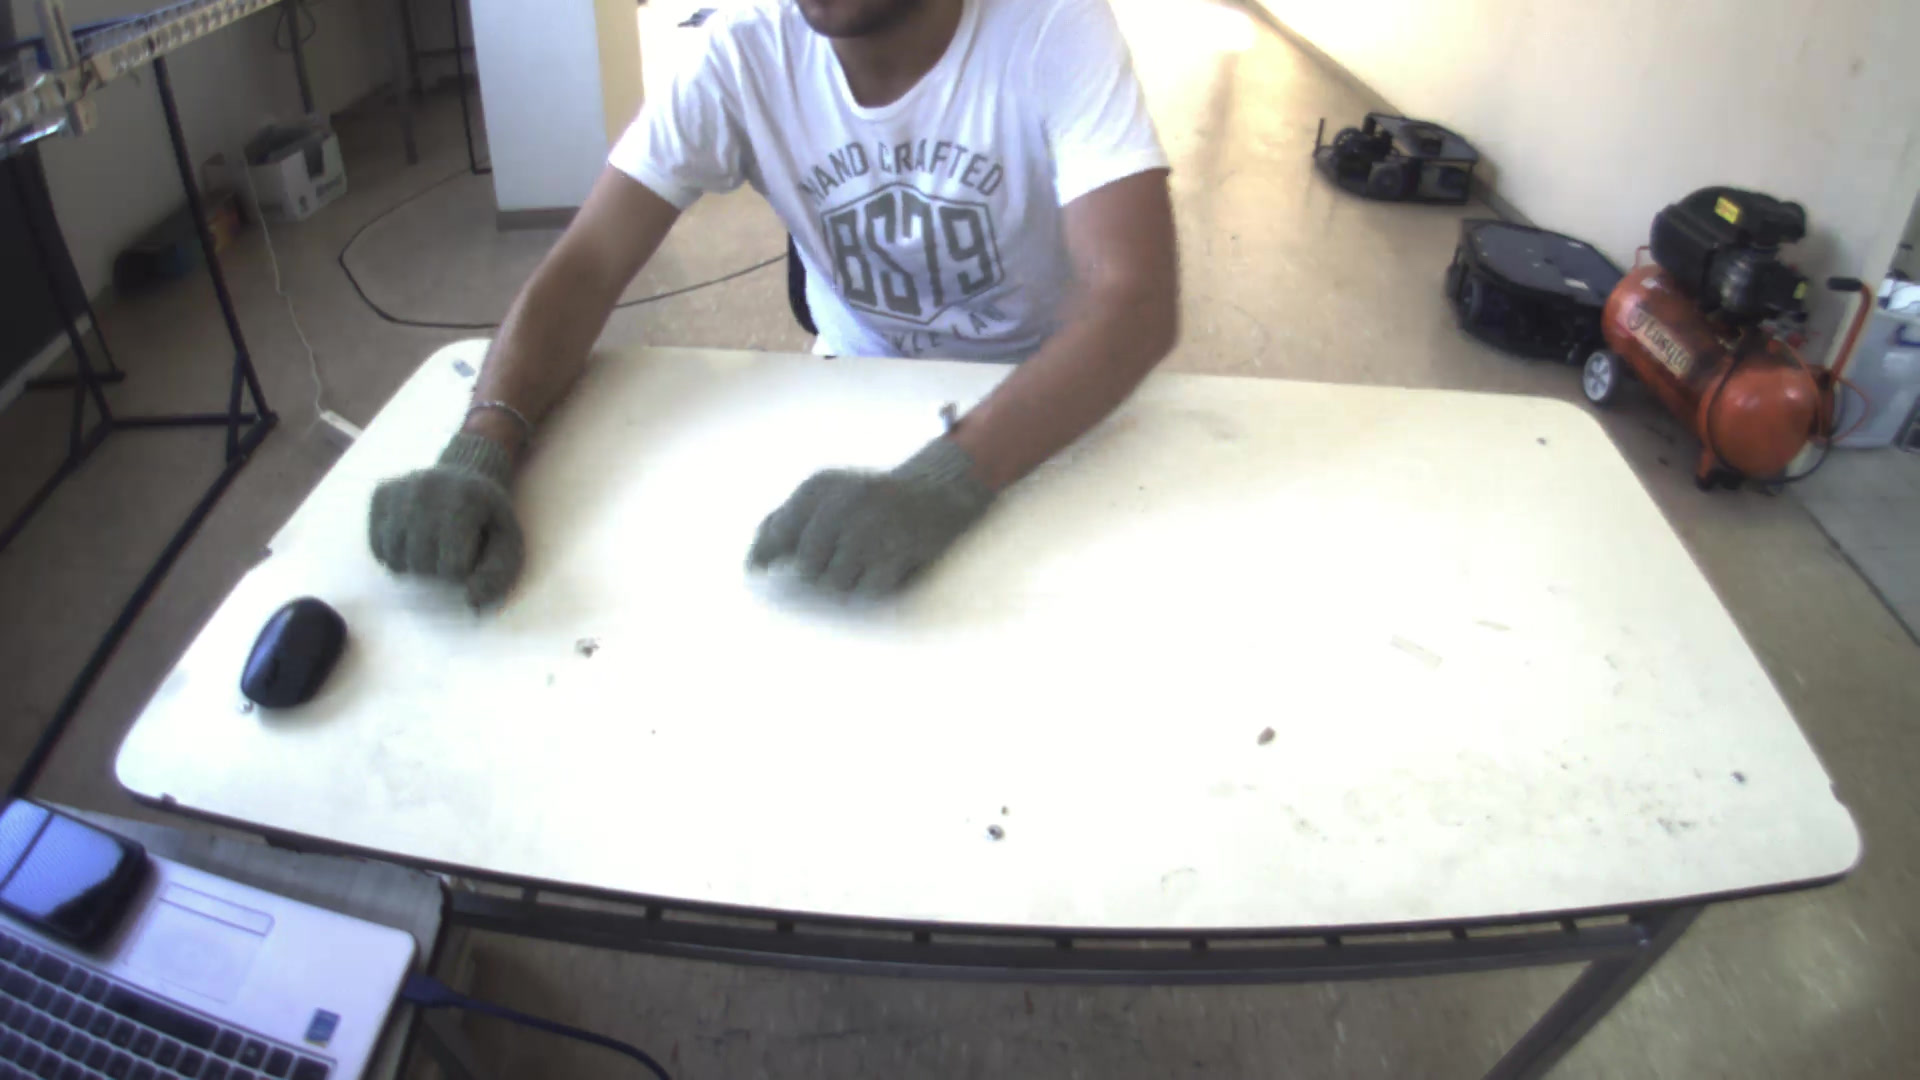hand: (735, 430, 1002, 617), (357, 430, 524, 591)
